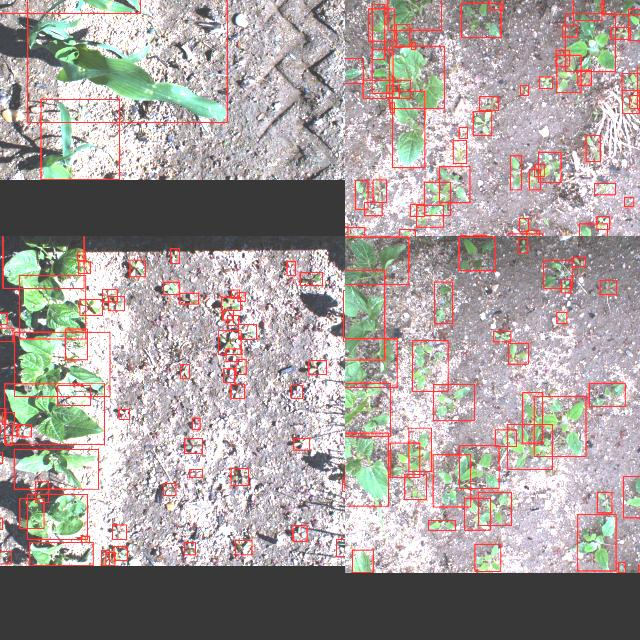crop: (27, 0, 226, 122), (40, 100, 120, 180), (13, 332, 109, 396), (4, 384, 104, 444), (19, 275, 85, 339), (2, 236, 83, 288), (345, 270, 384, 360), (388, 46, 444, 108), (13, 449, 98, 489), (345, 432, 388, 505), (345, 236, 408, 284), (27, 494, 87, 540), (345, 338, 396, 387), (392, 90, 424, 168), (345, 382, 390, 435), (387, 0, 441, 29), (29, 542, 93, 566)
weed: (533, 396, 585, 456), (565, 13, 615, 71), (577, 514, 615, 572), (506, 424, 552, 470), (432, 455, 470, 507), (412, 341, 448, 392), (458, 446, 498, 488), (432, 384, 473, 421), (460, 2, 500, 38), (458, 236, 494, 270), (438, 167, 469, 203), (478, 492, 510, 526), (389, 442, 419, 478), (522, 393, 542, 443), (408, 428, 430, 472), (556, 54, 580, 92), (368, 8, 394, 42), (423, 182, 449, 216), (372, 49, 392, 93), (362, 80, 410, 98), (588, 383, 624, 407), (542, 260, 572, 288), (464, 498, 490, 530), (434, 281, 452, 323), (622, 476, 640, 518), (474, 544, 500, 572), (19, 499, 43, 529), (65, 328, 87, 359), (56, 385, 90, 405), (538, 152, 560, 182), (372, 5, 384, 60), (416, 205, 442, 227), (404, 474, 426, 500), (572, 0, 601, 19), (602, 0, 640, 14), (218, 330, 240, 354), (472, 111, 492, 135), (352, 550, 372, 572), (345, 58, 362, 83), (354, 180, 368, 210), (507, 342, 527, 363), (627, 8, 640, 39), (622, 90, 638, 114), (78, 299, 102, 315), (494, 429, 516, 446), (585, 135, 599, 161), (596, 492, 612, 514), (578, 224, 607, 236), (510, 156, 520, 190), (230, 468, 248, 486), (621, 73, 640, 90), (452, 140, 466, 163), (395, 24, 409, 46), (372, 180, 386, 202), (234, 540, 252, 556), (238, 324, 256, 340), (184, 438, 202, 454), (478, 96, 498, 110), (220, 296, 240, 310), (34, 482, 48, 502), (299, 272, 321, 284), (428, 520, 454, 530), (363, 202, 381, 216), (308, 360, 326, 374), (610, 27, 630, 39), (528, 170, 540, 190), (594, 183, 614, 195), (178, 292, 198, 304), (555, 50, 569, 66), (292, 526, 306, 542), (225, 348, 241, 362), (130, 260, 144, 276), (108, 296, 124, 310), (112, 524, 126, 540), (600, 280, 616, 294), (577, 70, 591, 84), (230, 384, 244, 398), (113, 547, 127, 561), (162, 282, 178, 294), (596, 217, 610, 230), (492, 331, 510, 341), (293, 438, 309, 449), (345, 227, 364, 236), (335, 539, 345, 556), (538, 76, 552, 88), (410, 204, 424, 216), (222, 368, 234, 382), (102, 289, 116, 301), (16, 425, 30, 437), (0, 327, 12, 341), (100, 550, 110, 566), (628, 95, 640, 108), (162, 484, 175, 496), (386, 85, 398, 97), (290, 386, 302, 398), (2, 412, 14, 424), (0, 551, 11, 564), (562, 26, 576, 36), (518, 218, 528, 232), (235, 360, 245, 374), (517, 238, 527, 252), (560, 279, 570, 293), (183, 543, 194, 555), (286, 260, 294, 276), (489, 0, 503, 9), (534, 164, 544, 176), (226, 315, 238, 325), (78, 262, 90, 272), (572, 256, 584, 266), (399, 229, 415, 236), (170, 248, 178, 262), (106, 552, 114, 566), (180, 364, 188, 378), (188, 469, 202, 477), (623, 197, 633, 207), (222, 310, 232, 320), (118, 409, 128, 419), (556, 312, 566, 322), (191, 418, 199, 430), (458, 128, 467, 138), (520, 85, 528, 95), (526, 230, 538, 236), (12, 424, 18, 436), (0, 312, 6, 324), (5, 435, 12, 445), (0, 408, 5, 422), (230, 290, 238, 298), (77, 252, 85, 260), (80, 536, 90, 542), (618, 563, 624, 573), (341, 477, 345, 491), (238, 292, 245, 300), (389, 103, 393, 113), (411, 42, 415, 50), (0, 518, 2, 530), (637, 565, 640, 572), (460, 235, 466, 236)
